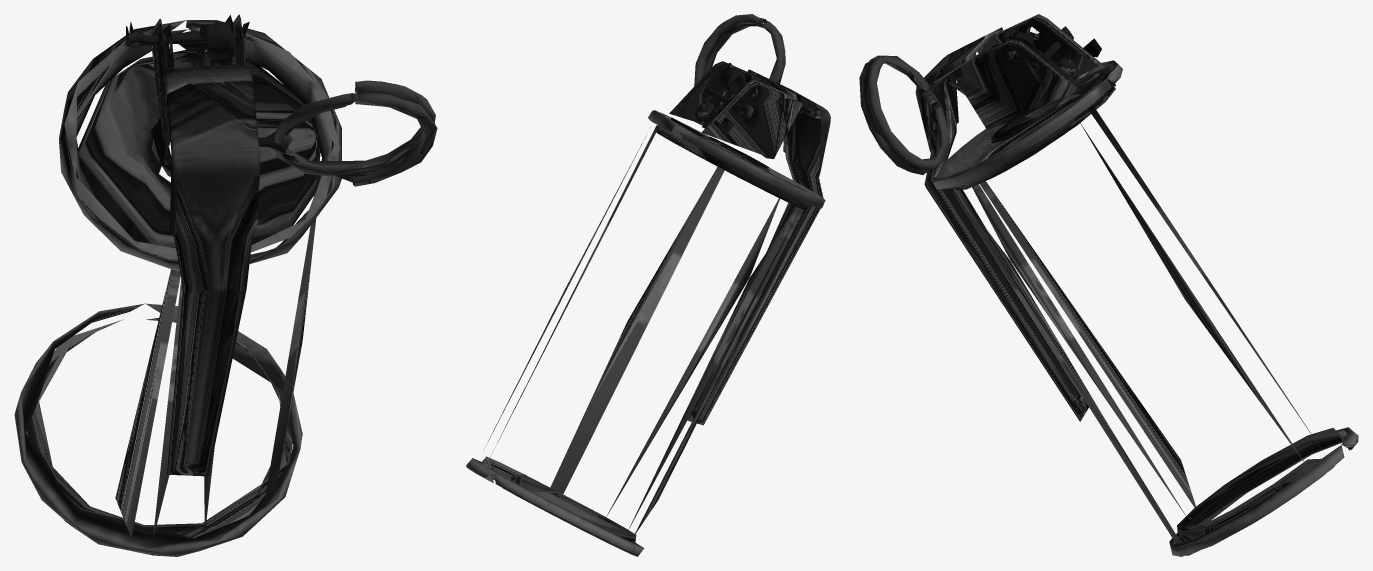
Rendered from p_smokegrenade.glb.
3 renders of one model, left to right at view 1: azimuth 30°, elevation 25°; view 2: azimuth 150°, elevation 25°; view 3: azimuth 270°, elevation 25°, orthographic. The views are drawn at different scales.
Parts seen in each view (by area): view 1: p_smokegrenade; view 2: p_smokegrenade; view 3: p_smokegrenade.
Boxes of the visible parts, <box> form: p_smokegrenade: <box>14,14,437,556</box>; p_smokegrenade: <box>466,14,830,556</box>; p_smokegrenade: <box>859,14,1358,556</box>.
Size of the model in its own units: 0.1205 by 0.2041 by 0.19.
Materials: 1 (1 with a texture image).
